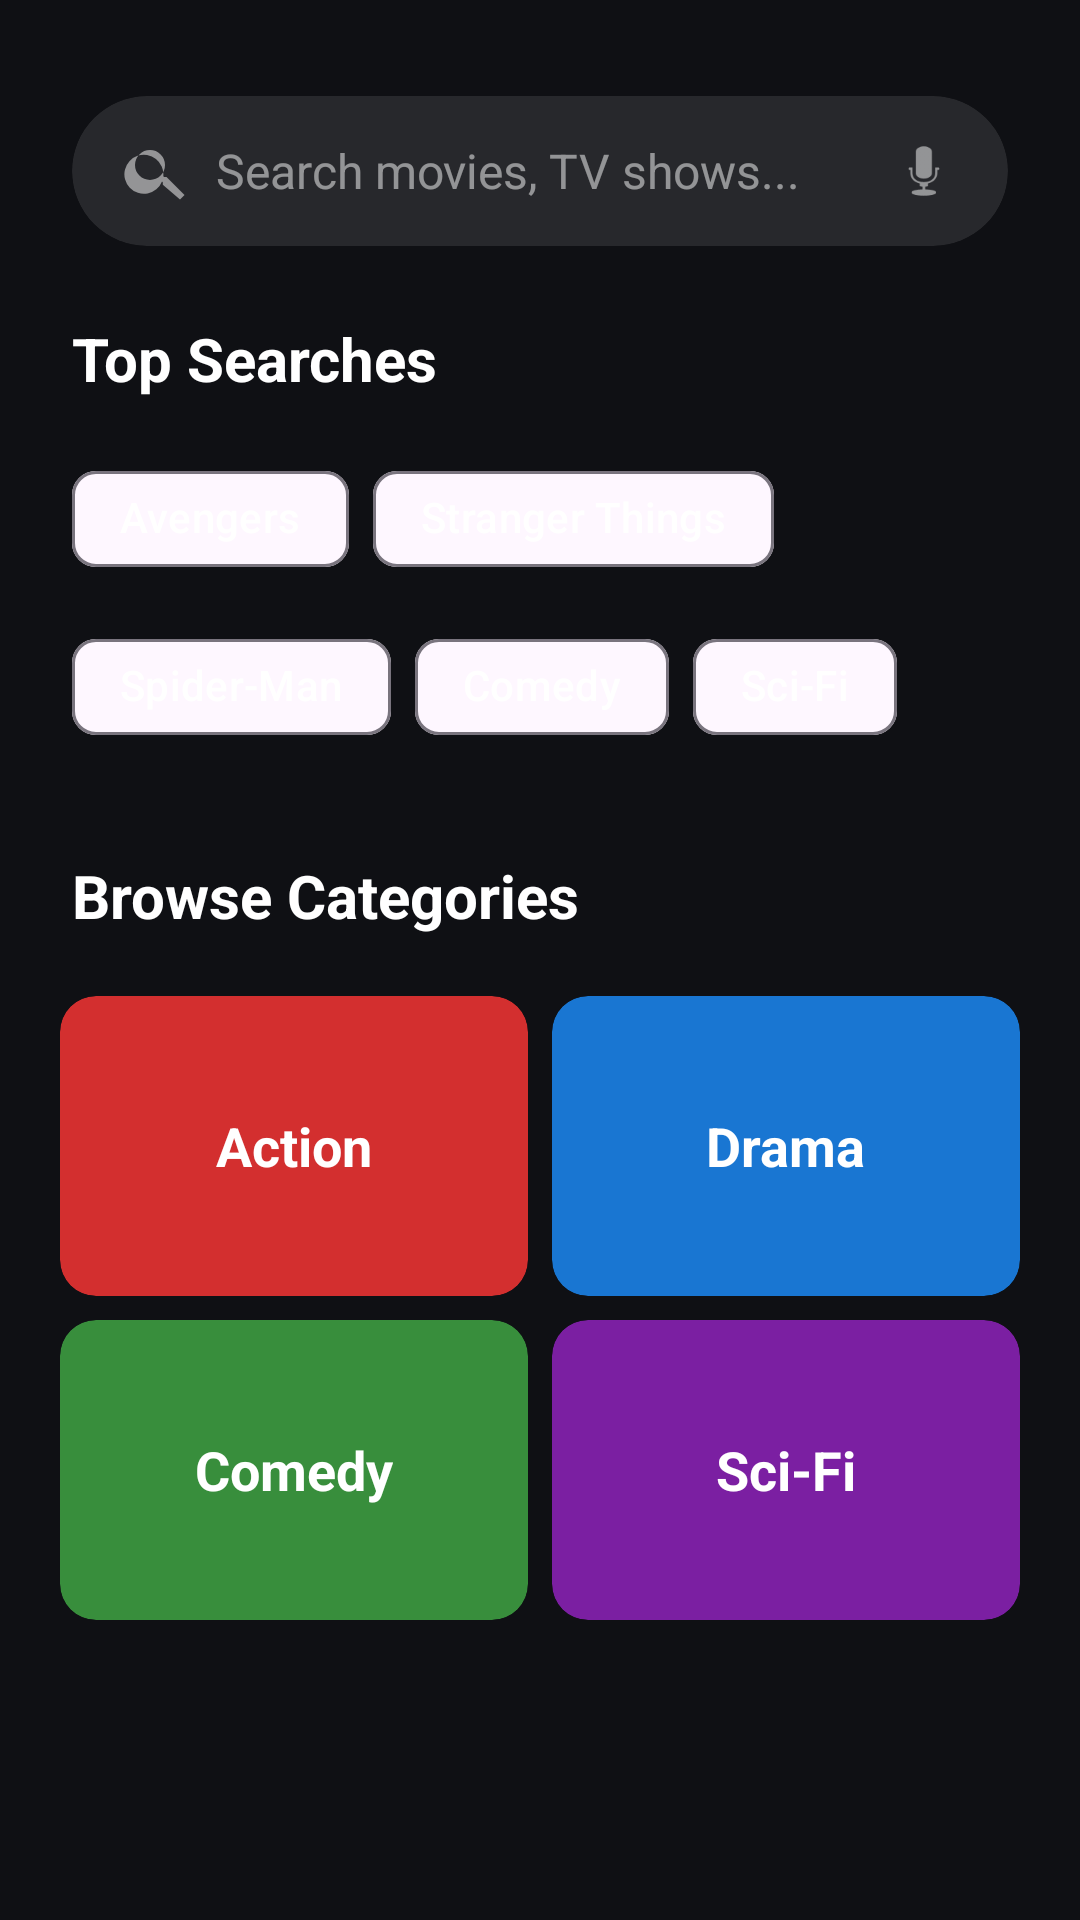

Where icons sit on this 1080 × 1920 app screen, as [left=x1, top=y1, right=x2, bottom=y2]:
speak now: [left=908, top=146, right=940, bottom=196]
